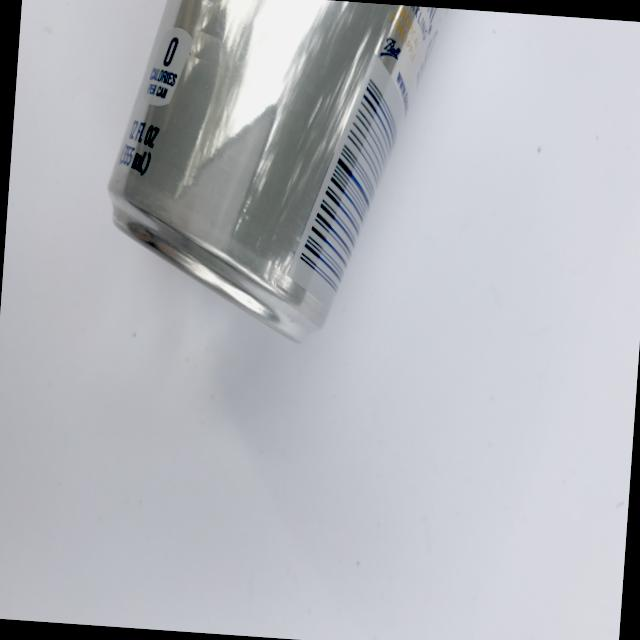Metal: (87, 0, 478, 359)
